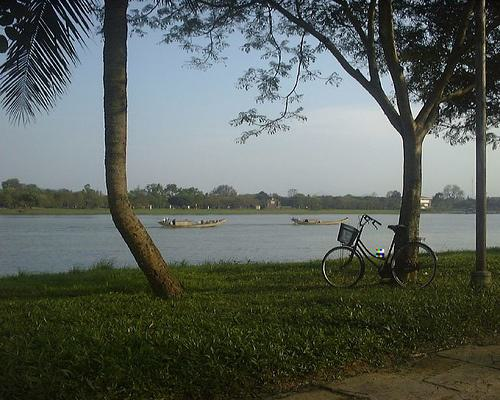boat: (158, 214, 229, 231), (291, 215, 352, 228)
car: (320, 212, 440, 294)
